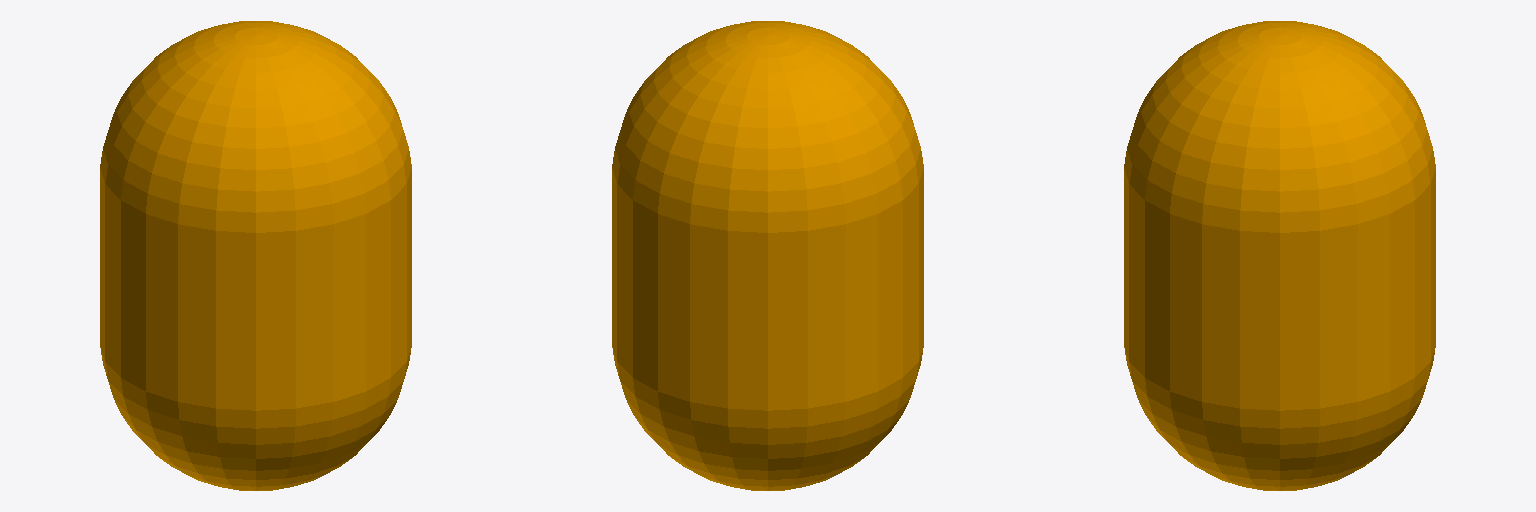
URDF robot description (object):
<?xml version="1.0"?>
<!-- Auto-generated by tools/gen_primitive_objects.py. kind=cap dims=(0.034, 0.038) -->
<robot name="object">
  <link name="object">
    <visual>
      <origin xyz="0 0 0"/>
      <geometry>
        <mesh filename="obj_1.stl"/>
      </geometry>
    </visual>
    <collision>
      <origin xyz="0 0 0"/>
      <geometry>
        <mesh filename="obj_1.stl"/>
      </geometry>
    </collision>
    <inertial>
      <mass value="0.060528"/>
      <inertia ixx="0.00005436" ixy="0.0" ixz="0.0" iyy="0.00005436" iyz="0.0" izz="0.00003118"/>
    </inertial>
  </link>
</robot>

--- What the picture shows (computed from the rendered views, not written in the file) ---
The picture shows the robot from 3 angles, left to right: view 1: azimuth 30°, elevation 25°; view 2: azimuth 150°, elevation 25°; view 3: azimuth 270°, elevation 25°; orthographic projection.
Model object with 1 links and 0 joints (none), rooted at object, posed all joints at 0.
Visible links, largest first — view 1: object; view 2: object; view 3: object.
Boxes of the visible links, x1,y1,x2,y2 form: object: [100, 21, 411, 490]; object: [612, 21, 923, 490]; object: [1124, 21, 1435, 490].
Size in the robot's own frame: 0.0678 by 0.0678 by 0.106 metres.
1 mesh visuals loaded from 1 distinct referenced files (1 binary STL).
